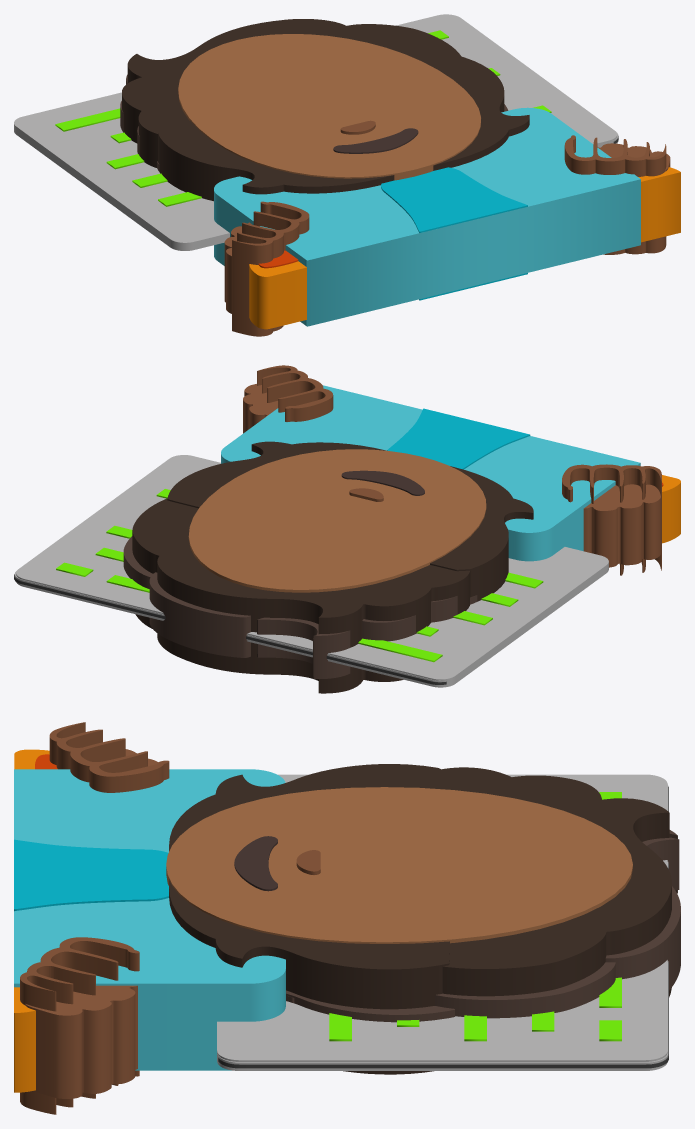
The model's file is emoji_u1f9d1_1f3fe_200d_1f4bb.glb.
3 renders of one model, top to bottom at view 1: azimuth 30°, elevation 25°; view 2: azimuth 150°, elevation 25°; view 3: azimuth 270°, elevation 25°, orthographic. The views are drawn at different scales.
Visible parts, largest first — view 1: emoji_u1f9d1_1f3fe_200d_1f4bb; view 2: emoji_u1f9d1_1f3fe_200d_1f4bb; view 3: emoji_u1f9d1_1f3fe_200d_1f4bb.
Part boxes in pixels (x1,y1,x2,y2): emoji_u1f9d1_1f3fe_200d_1f4bb: (14, 14, 680, 336); emoji_u1f9d1_1f3fe_200d_1f4bb: (14, 365, 680, 693); emoji_u1f9d1_1f3fe_200d_1f4bb: (14, 722, 680, 1114).
Size of the model in its own units: 0.0339 by 0.0068 by 0.0334.
